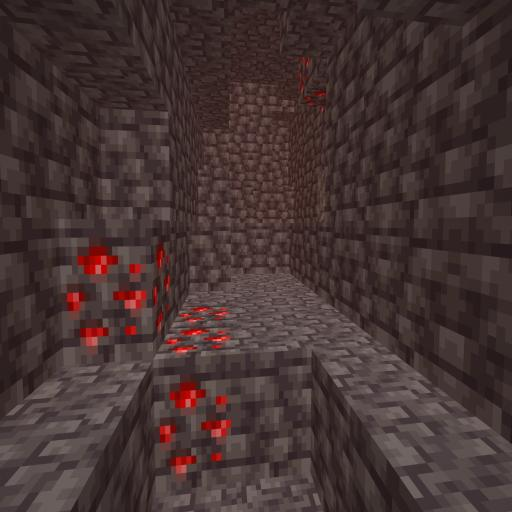redstone ore: (61, 214, 236, 497), (289, 41, 336, 124)
